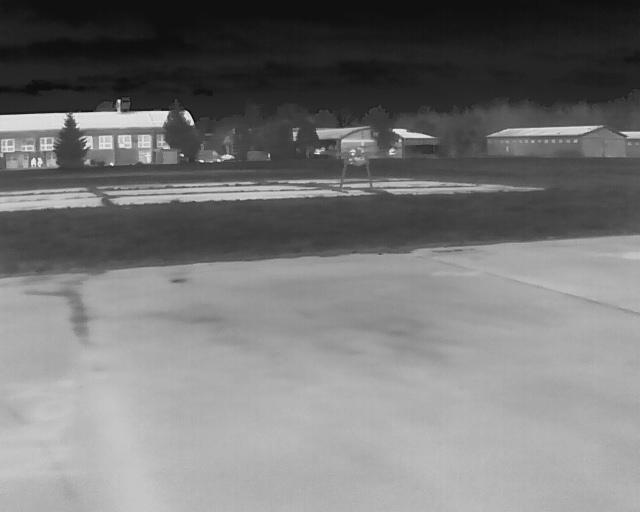drone: (306, 135, 407, 195)
